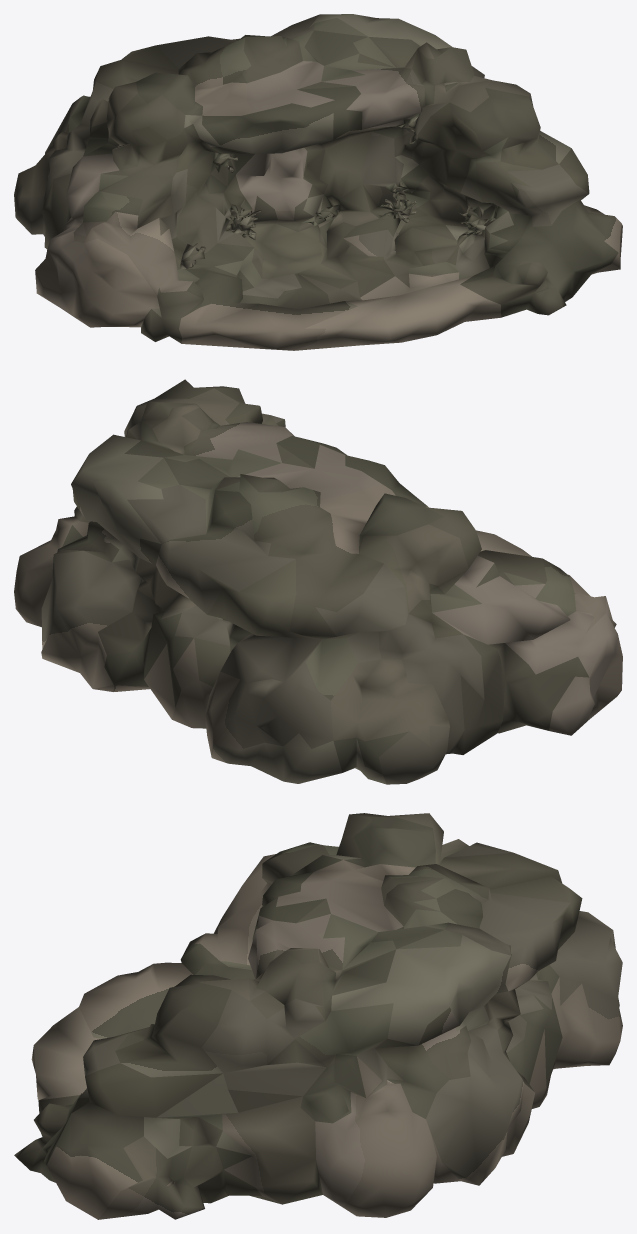
Rendered from grotto.glb.
3 renders of one model, top to bottom at view 1: azimuth 30°, elevation 25°; view 2: azimuth 150°, elevation 25°; view 3: azimuth 270°, elevation 25°, orthographic. The views are drawn at different scales.
Visible parts, largest first — view 1: LO.001; view 2: LO.001; view 3: LO.001.
Part boxes in pixels (left/top/right/bottom): LO.001: left=14, top=14, right=622, bottom=350; LO.001: left=14, top=379, right=622, bottom=784; LO.001: left=14, top=813, right=622, bottom=1219.
Bounding box in the file's own units: 9.02 × 3.2 × 8.22.
1 material, 1 textured.
